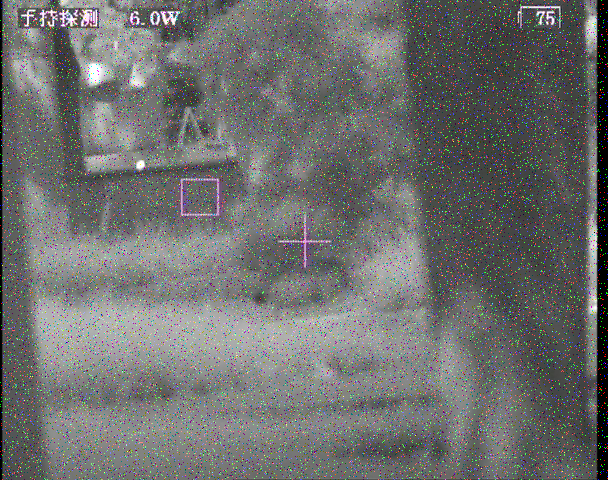my: (135, 158, 146, 171)
